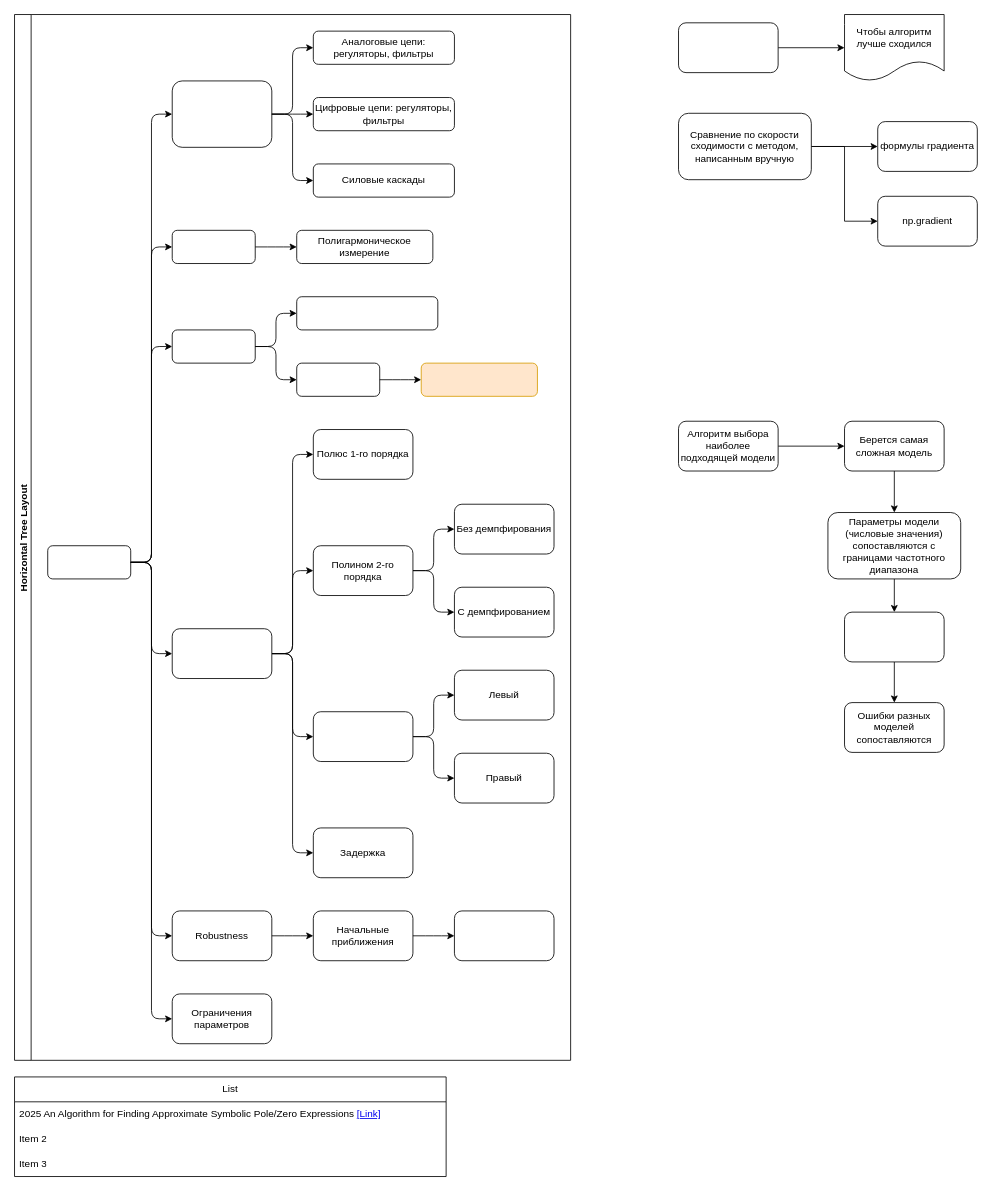
Image size: 992x1191. Some labels were removed from this diagram. Here are the shapes that lost their labels. From the top down, the centre of each, then its label:
At pixel 728 47: "Нормирование параметров".
At pixel 221 113: "Актуальность идентификации параметров электрических цепей".
At pixel 213 246: "Алгоритм измерения ЧХ".
At pixel 367 313: "Проблема неминимальной фазовости".
At pixel 213 346: "Функция ошибки".
At pixel 338 379: "Составная функция".
At pixel 478 379: "Как привести в единый масштаб?".
At pixel 89 562: "План".
At pixel 221 653: "Структуры базовые".
At pixel 894 636: "Считается ошибка редуцированной модели".
At pixel 362 736: "Ноль 1-го порядка".
At pixel 504 935: "Таблица mean & std".
